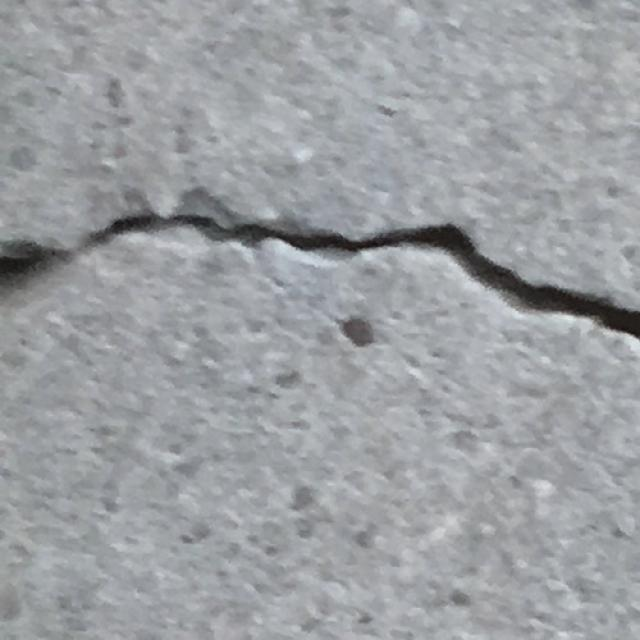horizontal crack: (4, 176, 640, 363)
